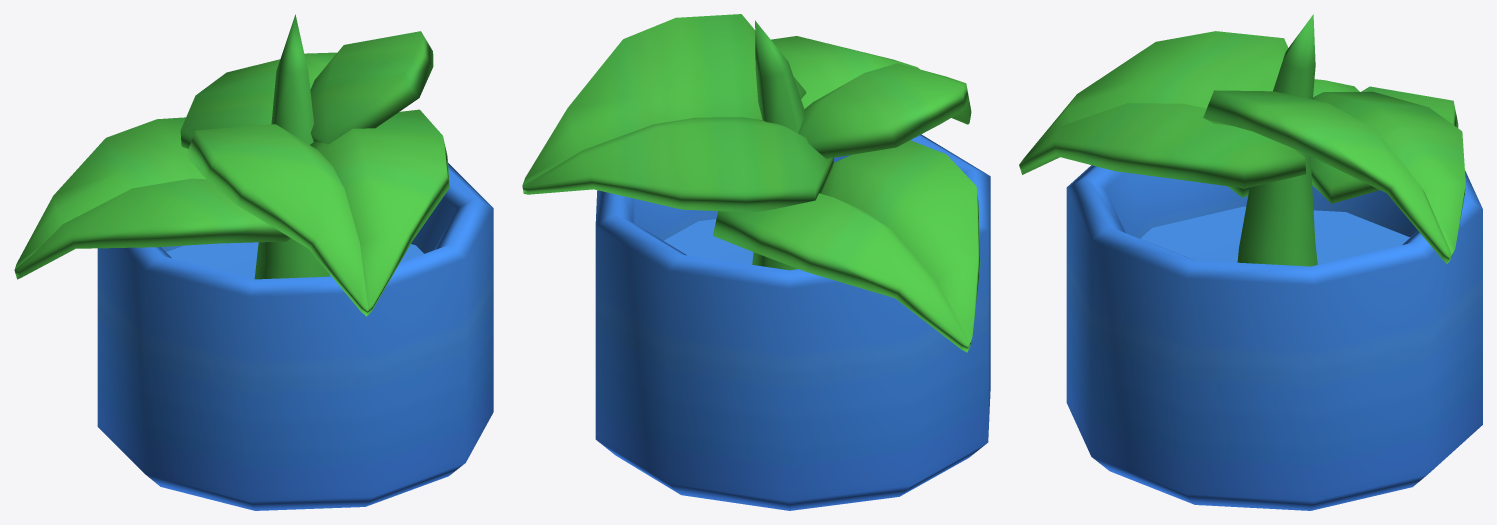
File: Pot_01.fbx
The picture shows the model from 3 angles, left to right: view 1: azimuth 30°, elevation 25°; view 2: azimuth 150°, elevation 25°; view 3: azimuth 270°, elevation 25°; orthographic projection. The views are drawn at different scales.
Parts seen in each view (by area): view 1: Pot_01; view 2: Pot_01; view 3: Pot_01.
Part boxes in pixels (box(x1,y1,x2,y2)): Pot_01: box(14, 14, 493, 510); Pot_01: box(522, 14, 990, 510); Pot_01: box(1019, 14, 1482, 510).
Bounding box in the file's own units: 1.3 × 1.31 × 1.23.
1 material, 1 textured.
